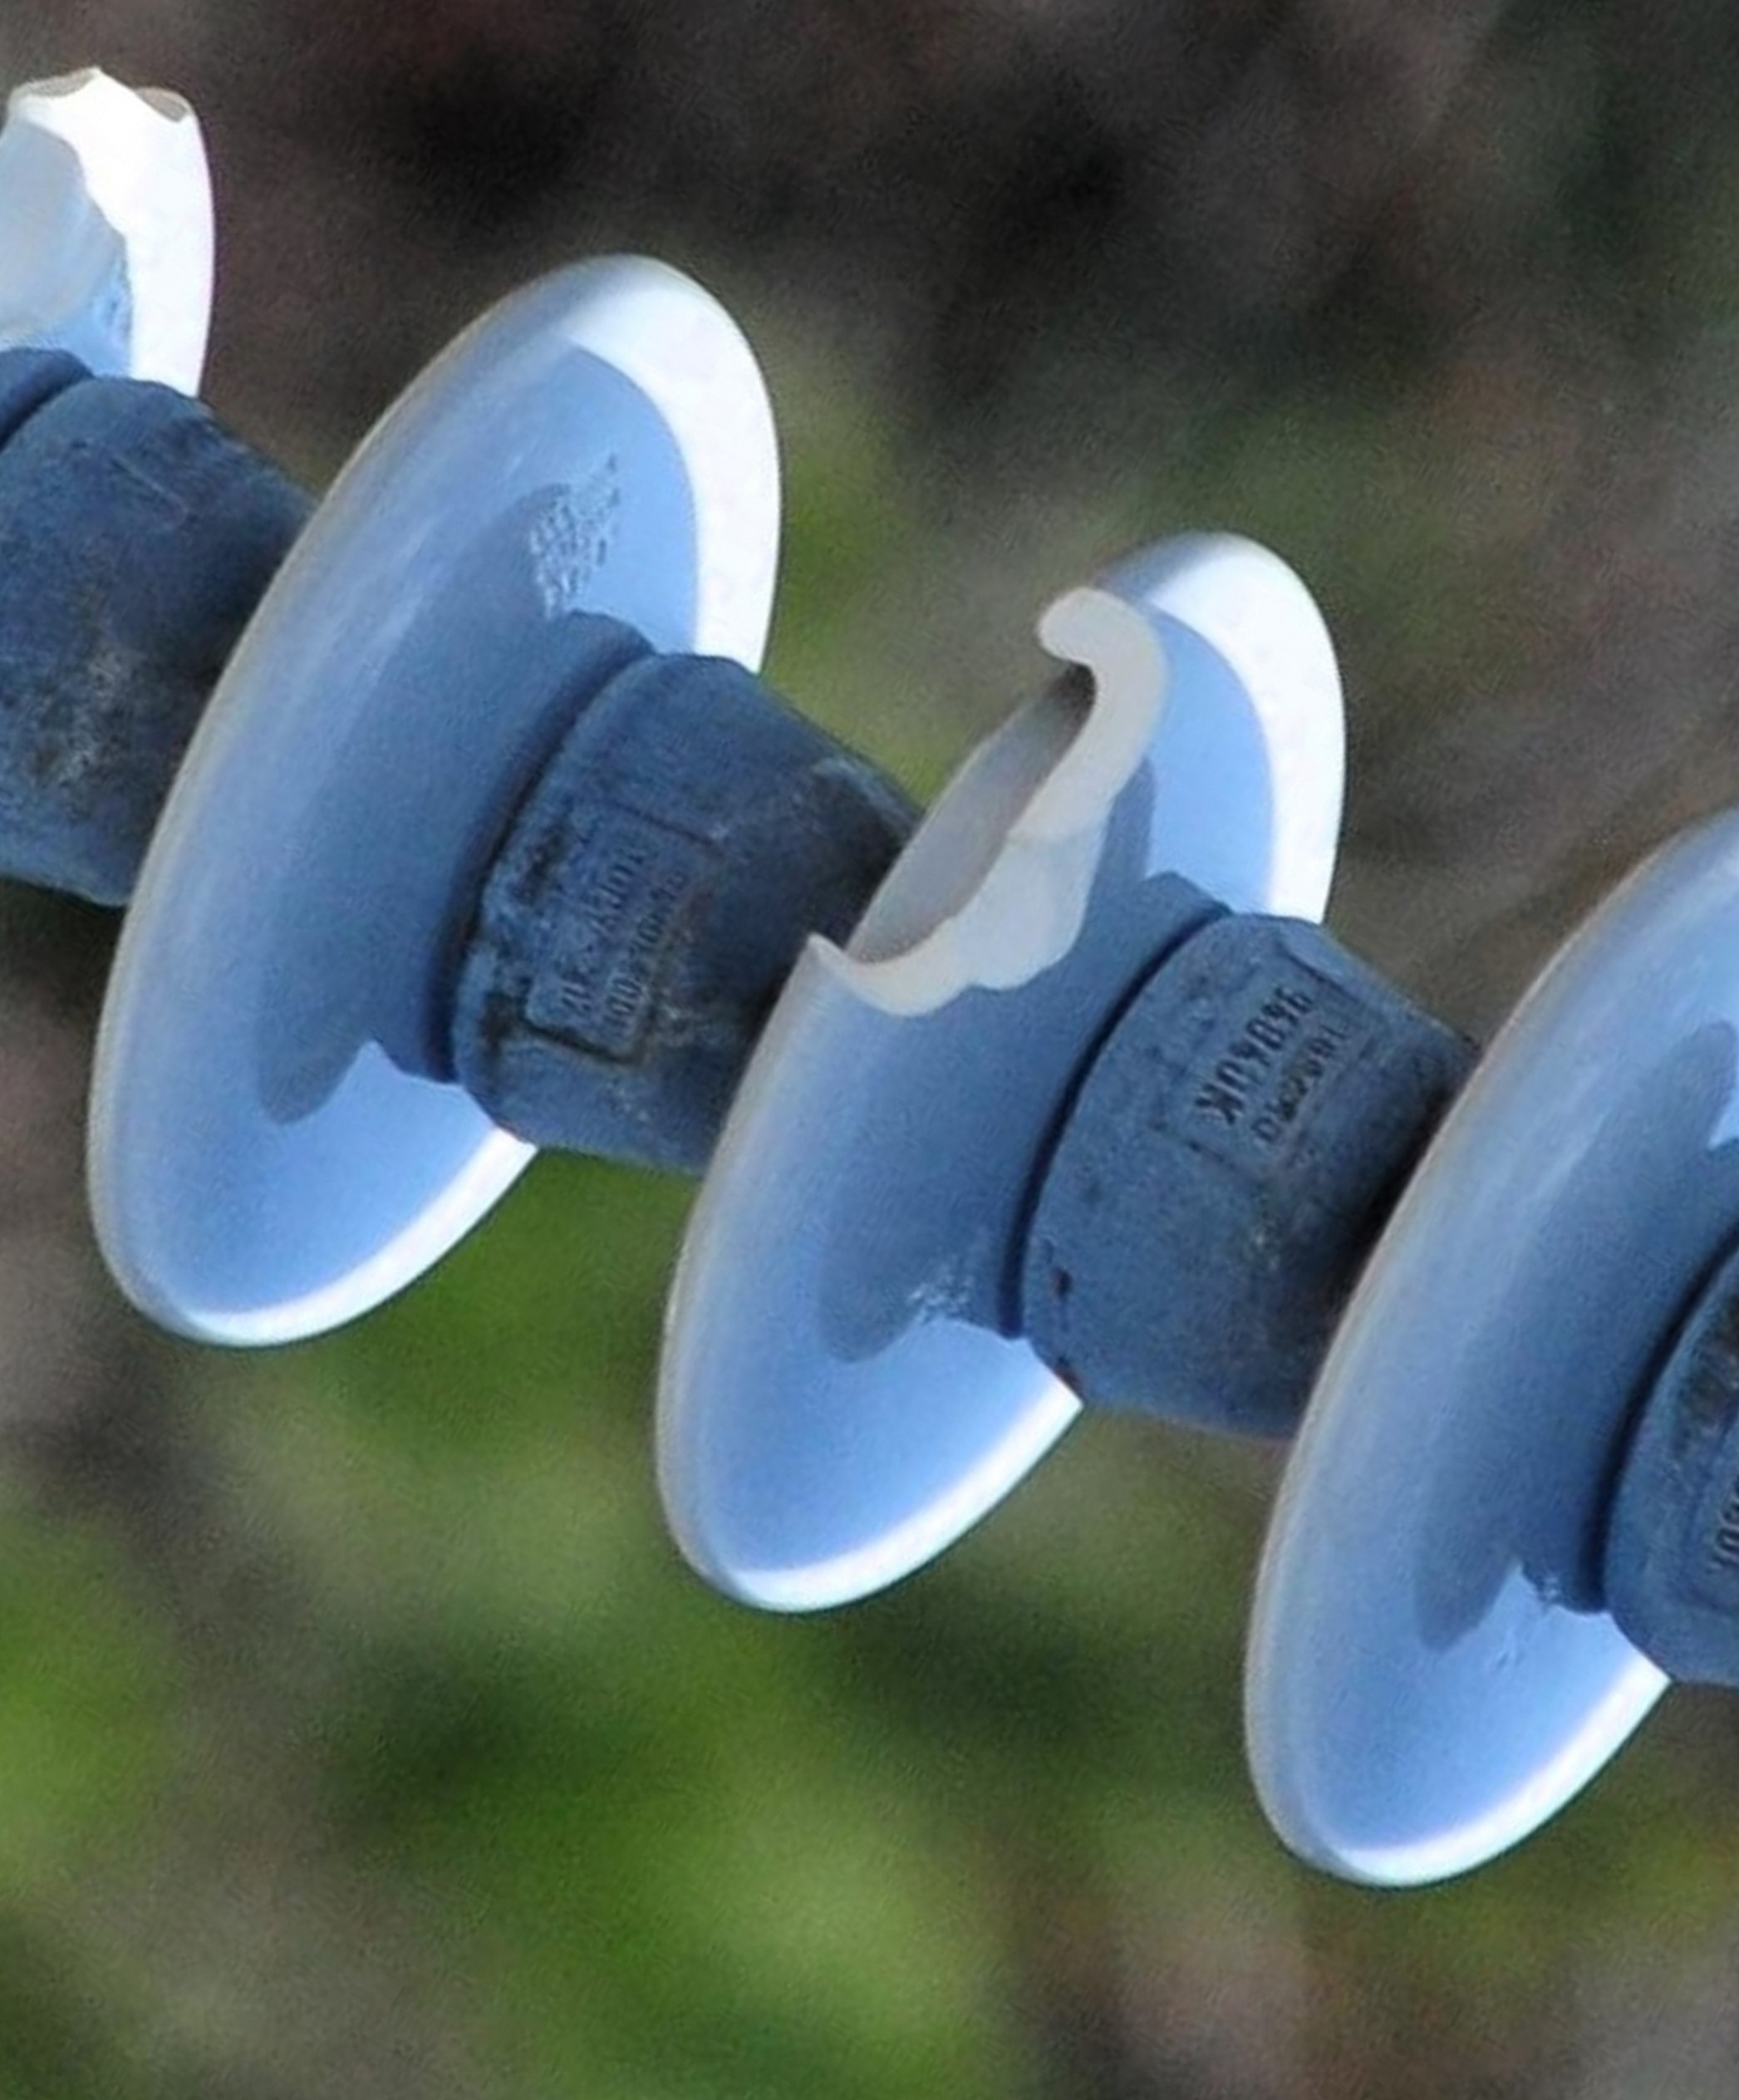insulator breakage: (647, 501, 1369, 1640)
